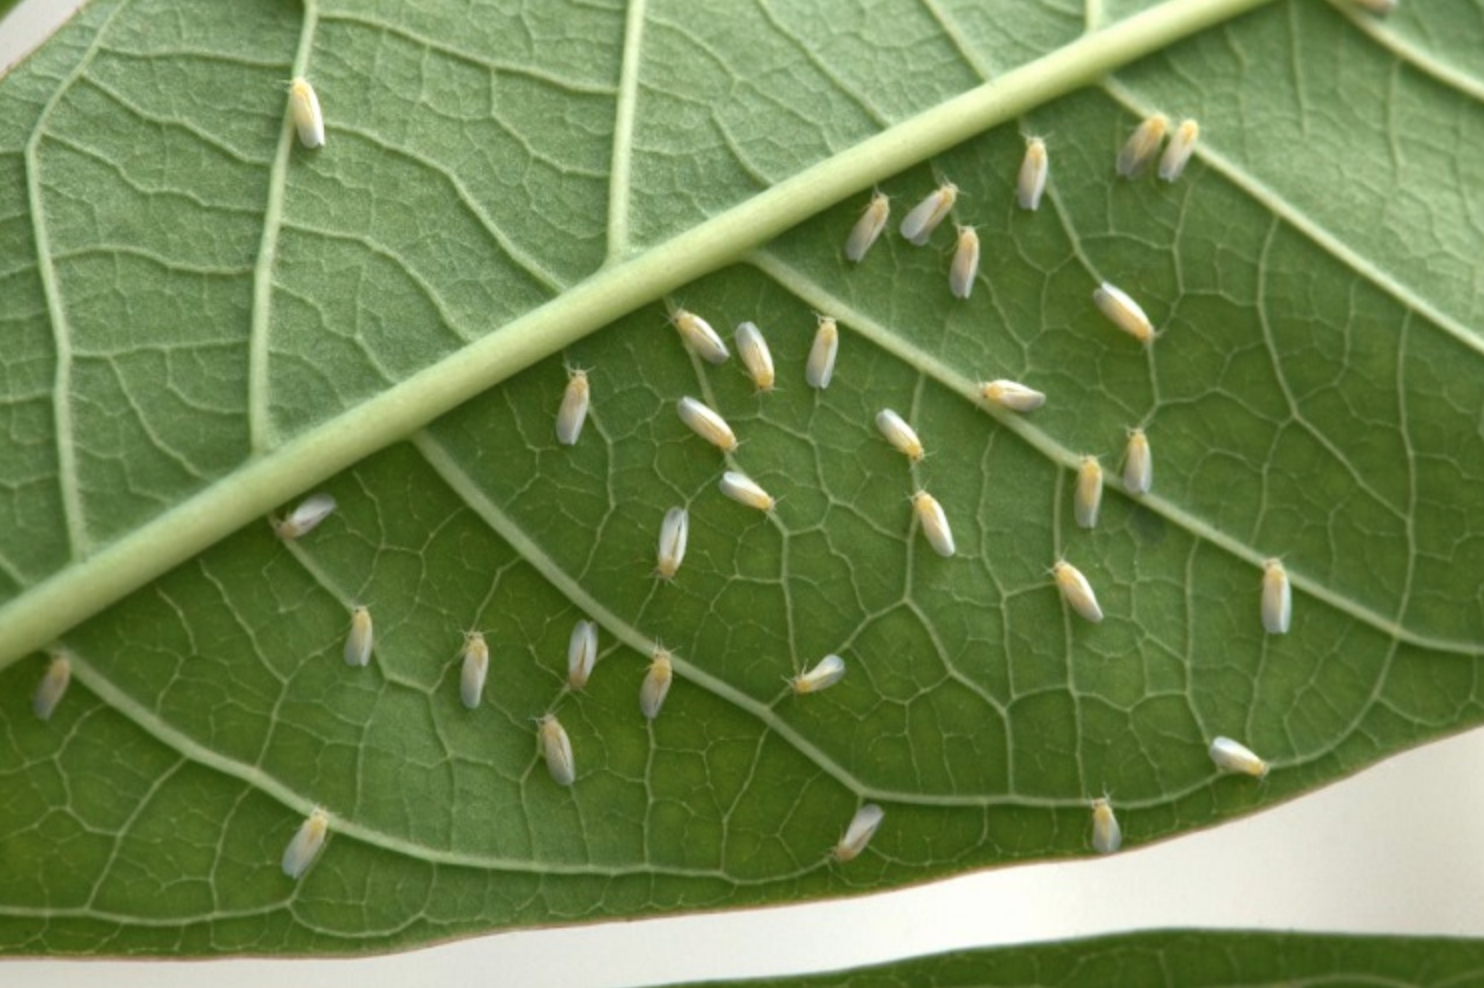Tobacco Whitefly: (640, 379, 796, 490), (1243, 523, 1350, 658), (871, 484, 1007, 582), (527, 340, 599, 490), (832, 384, 942, 479), (276, 72, 366, 182), (963, 346, 1071, 430), (642, 494, 712, 607), (1097, 282, 1207, 354), (450, 594, 507, 717), (1024, 538, 1089, 631), (820, 776, 879, 862), (764, 648, 833, 715)
